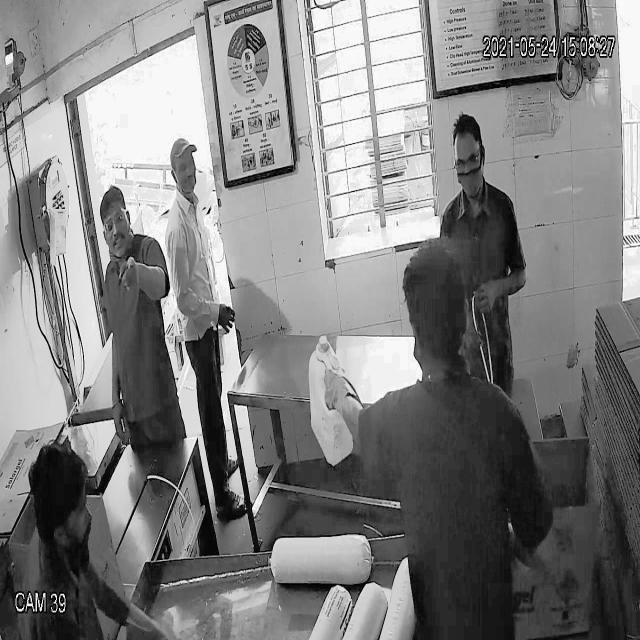glasses: (452, 144, 488, 176), (99, 205, 132, 239)
no-glass: (170, 156, 197, 182)
